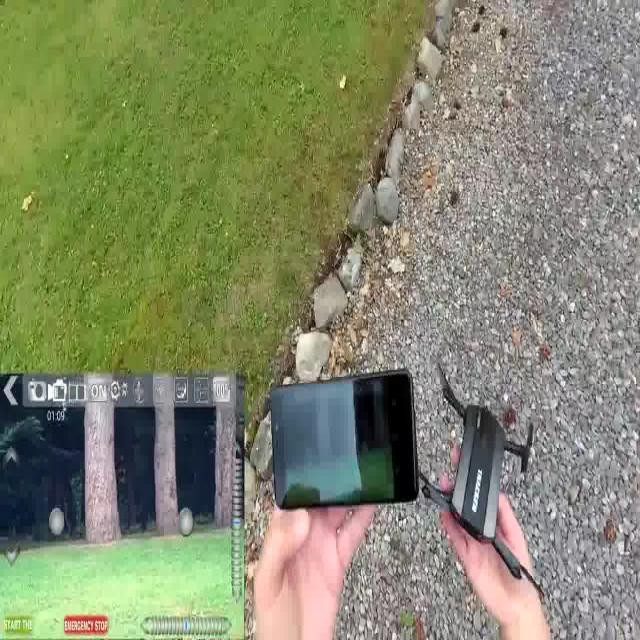drones: (412, 345, 555, 618)
